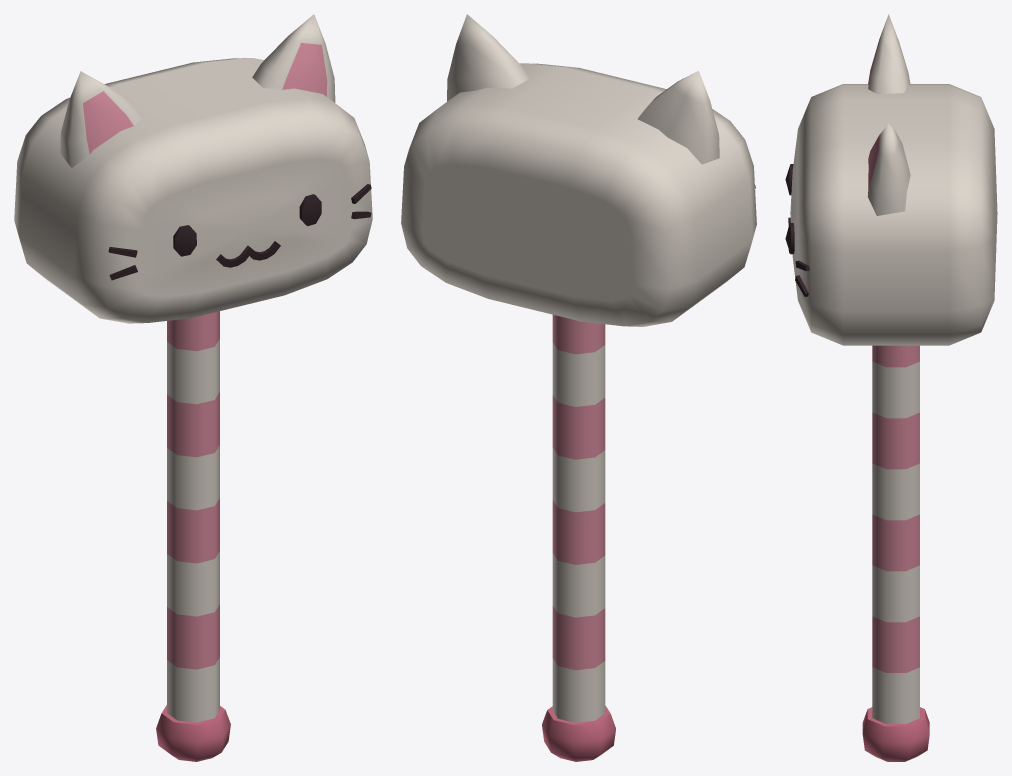
Rendered from Cosmetic_CatHammer.glb.
3 views of the same model, side by side, from view 1: azimuth 30°, elevation 25°; view 2: azimuth 150°, elevation 25°; view 3: azimuth 270°, elevation 25° (orthographic). The views are drawn at different scales.
Visible parts, largest first — view 1: Cosmetic_CatHammer; view 2: Cosmetic_CatHammer; view 3: Cosmetic_CatHammer.
Part boxes in pixels (box(x1,y1,x2,y2)): Cosmetic_CatHammer: box(14, 14, 372, 761); Cosmetic_CatHammer: box(401, 14, 756, 761); Cosmetic_CatHammer: box(785, 14, 997, 761).
Size of the model in its own units: 0.4314 by 0.9989 by 0.2805.
